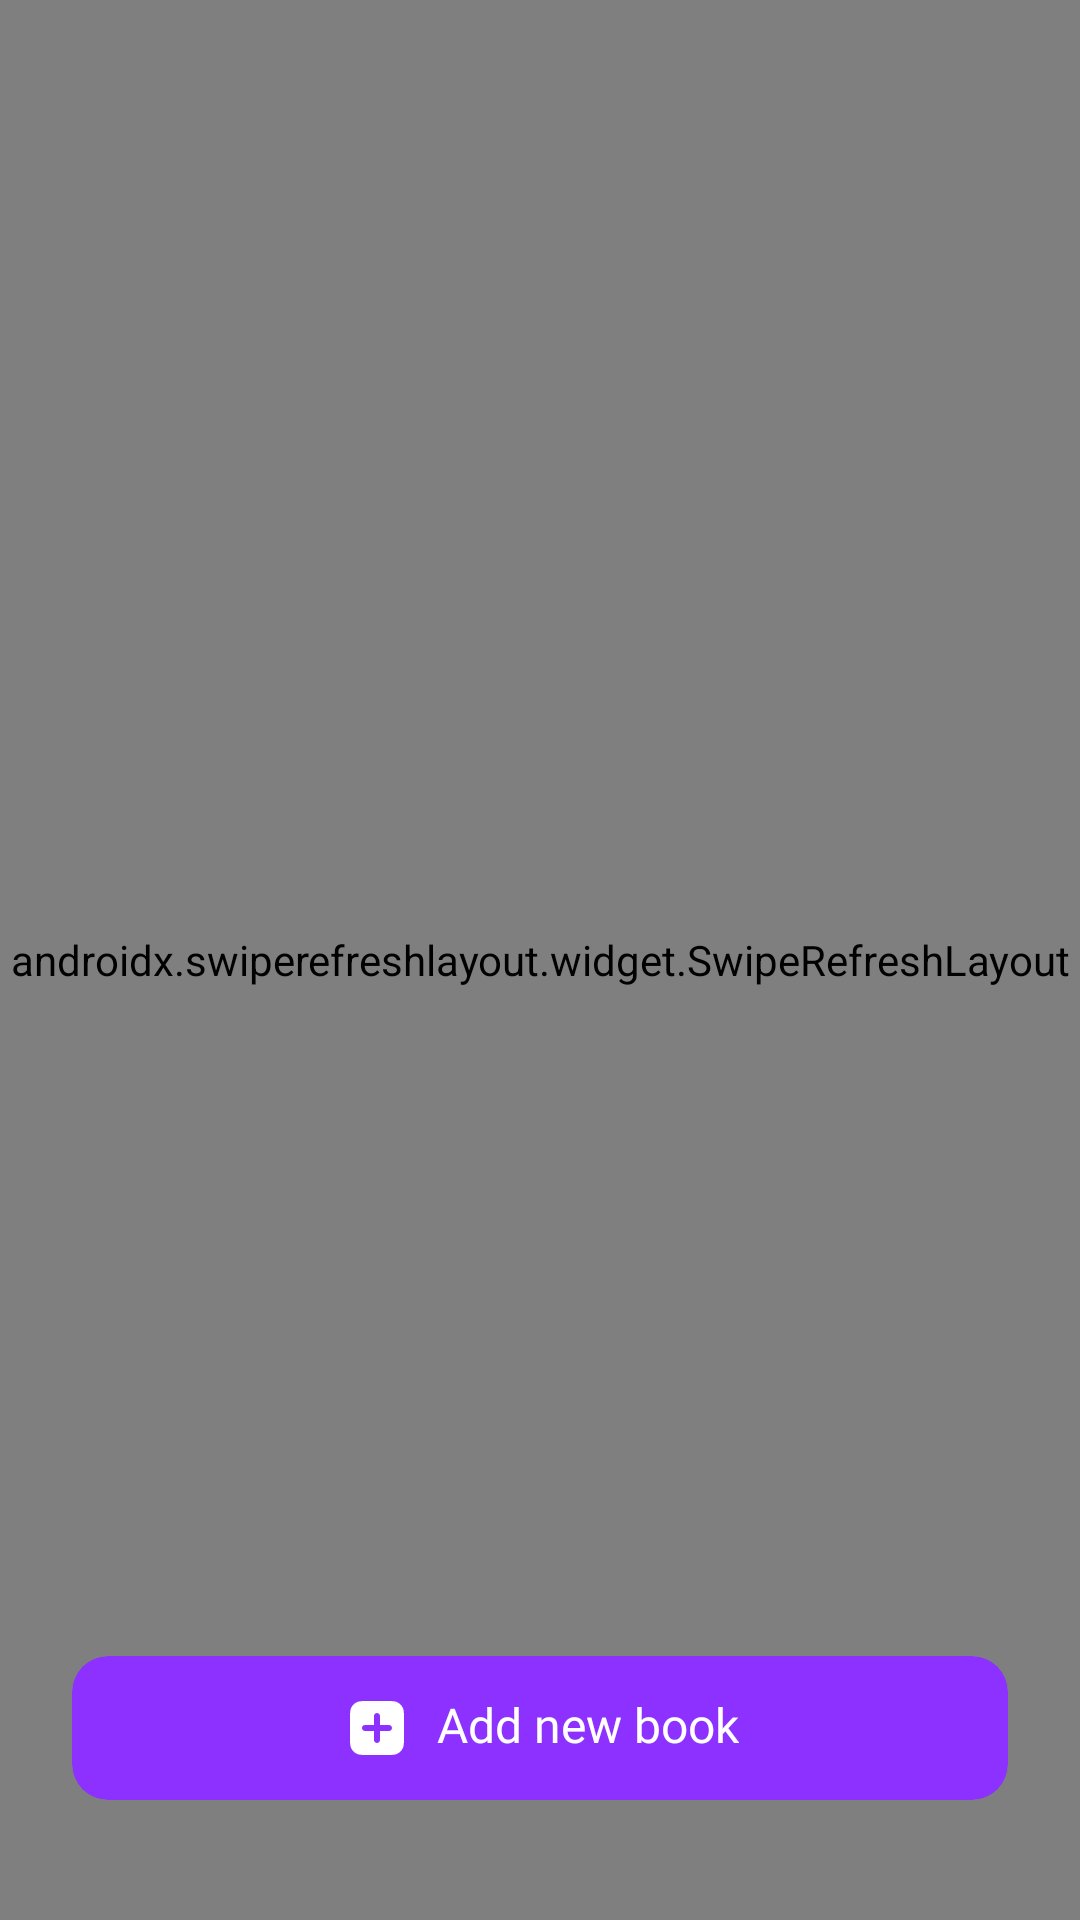

Icon bounding boxes for this 1080x1920 phone screenshot, format rect(x1, y1, x2, y2):
plus: rect(350, 1701, 404, 1755)
